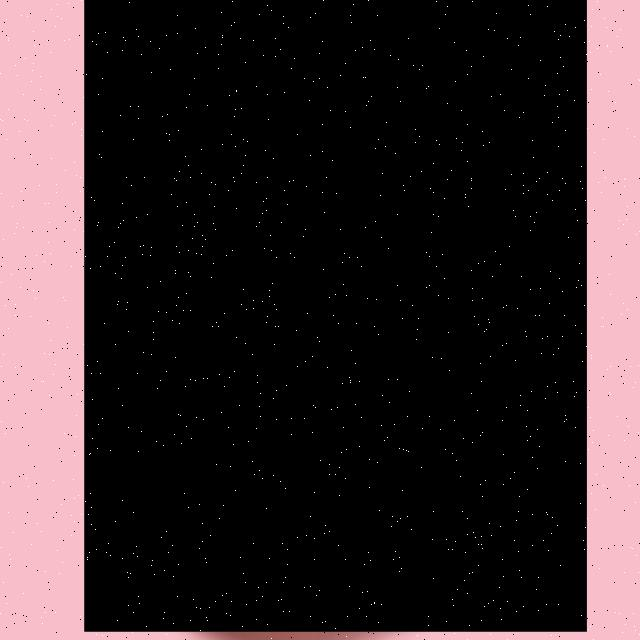Banana: (84, 0, 587, 632)
